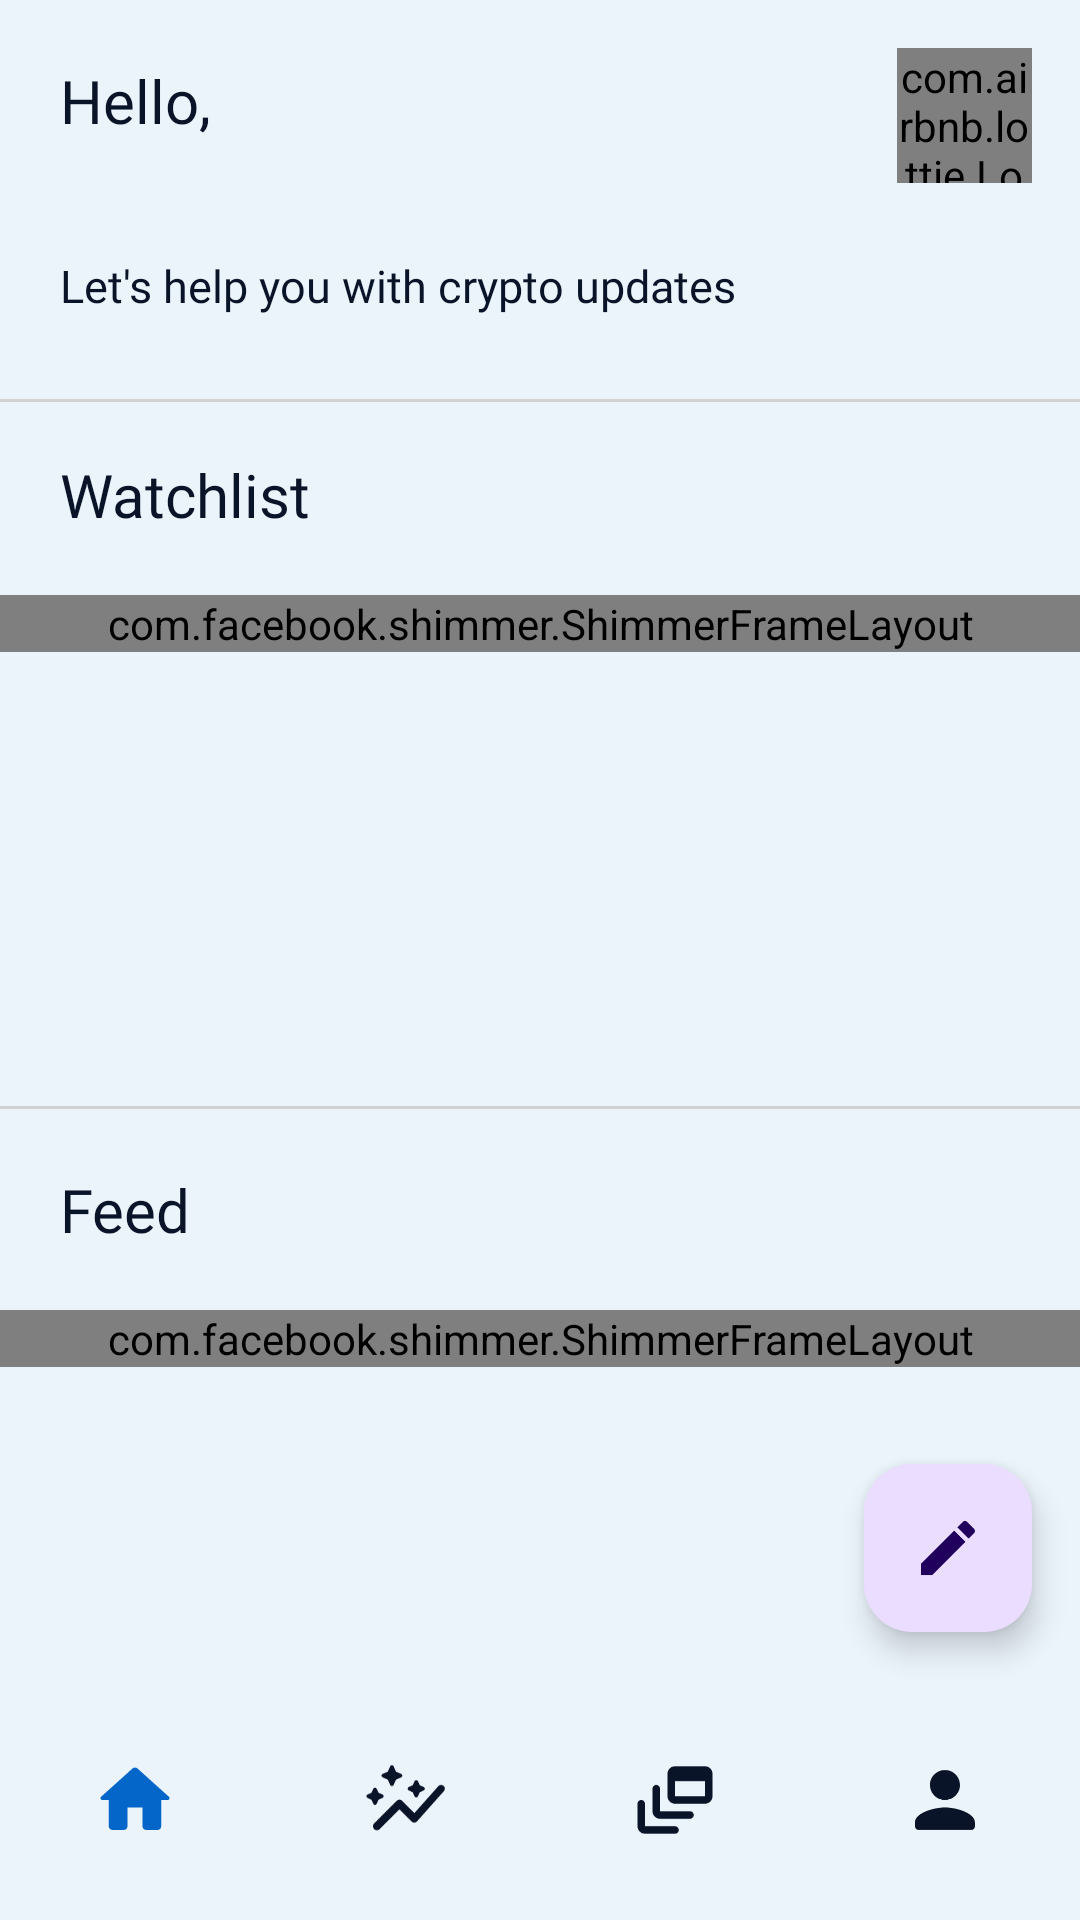

Icon click points for this 1080 × 1920 phone screenshot, format (x=x, y=y):
Post: (x=948, y=1548)
